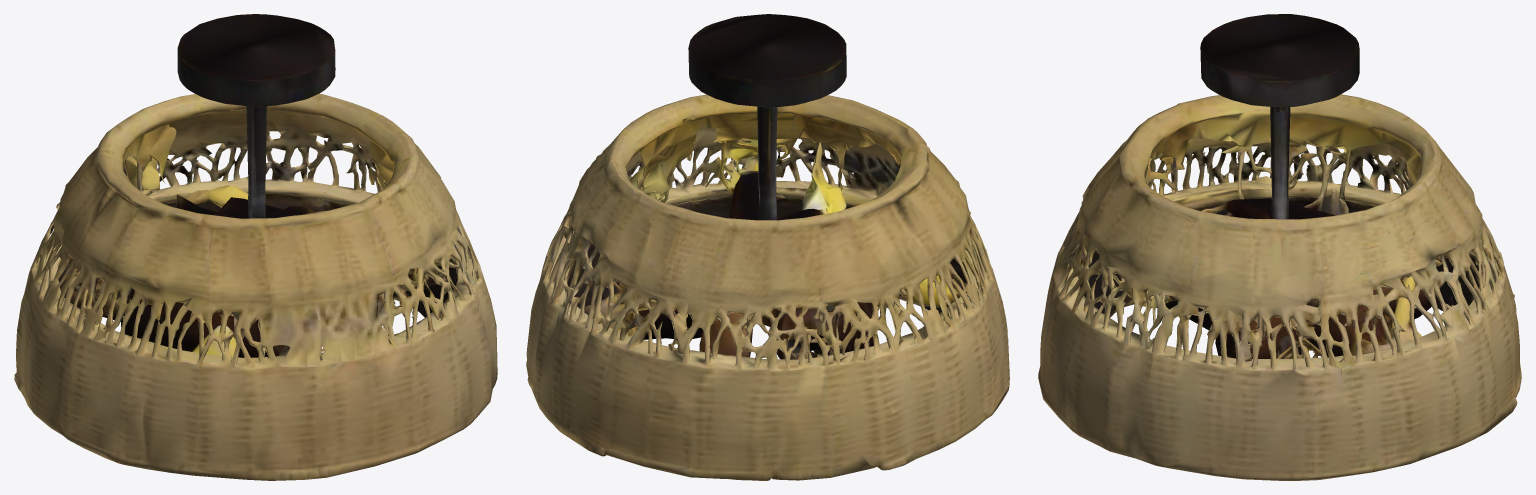
3 renders of one model, left to right at view 1: azimuth 30°, elevation 25°; view 2: azimuth 150°, elevation 25°; view 3: azimuth 270°, elevation 25°, orthographic.
Parts seen in each view (by area): view 1: geometry_0; view 2: geometry_0; view 3: geometry_0.
Part boxes in pixels (x1,y1,x2,y2): geometry_0: (14,14,497,480); geometry_0: (526,14,1009,480); geometry_0: (1038,14,1521,480).
Size of the model in its own units: 0.9932 by 0.7643 by 0.9983.
Materials: 1 (1 with a texture image).
